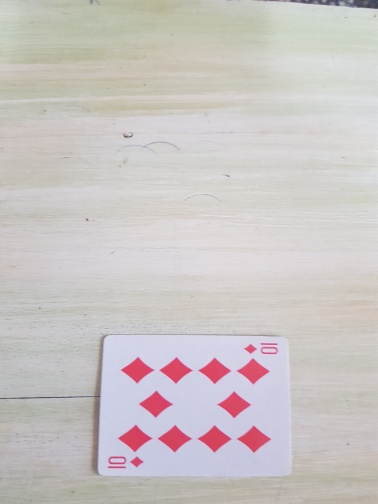ten: (96, 334, 295, 479)
